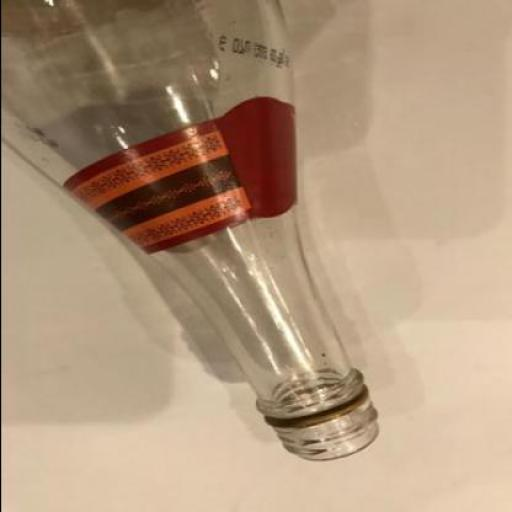glass: (1, 0, 382, 464)
